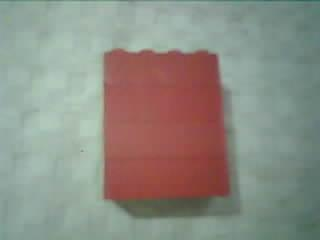lego: (99, 46, 232, 204)
